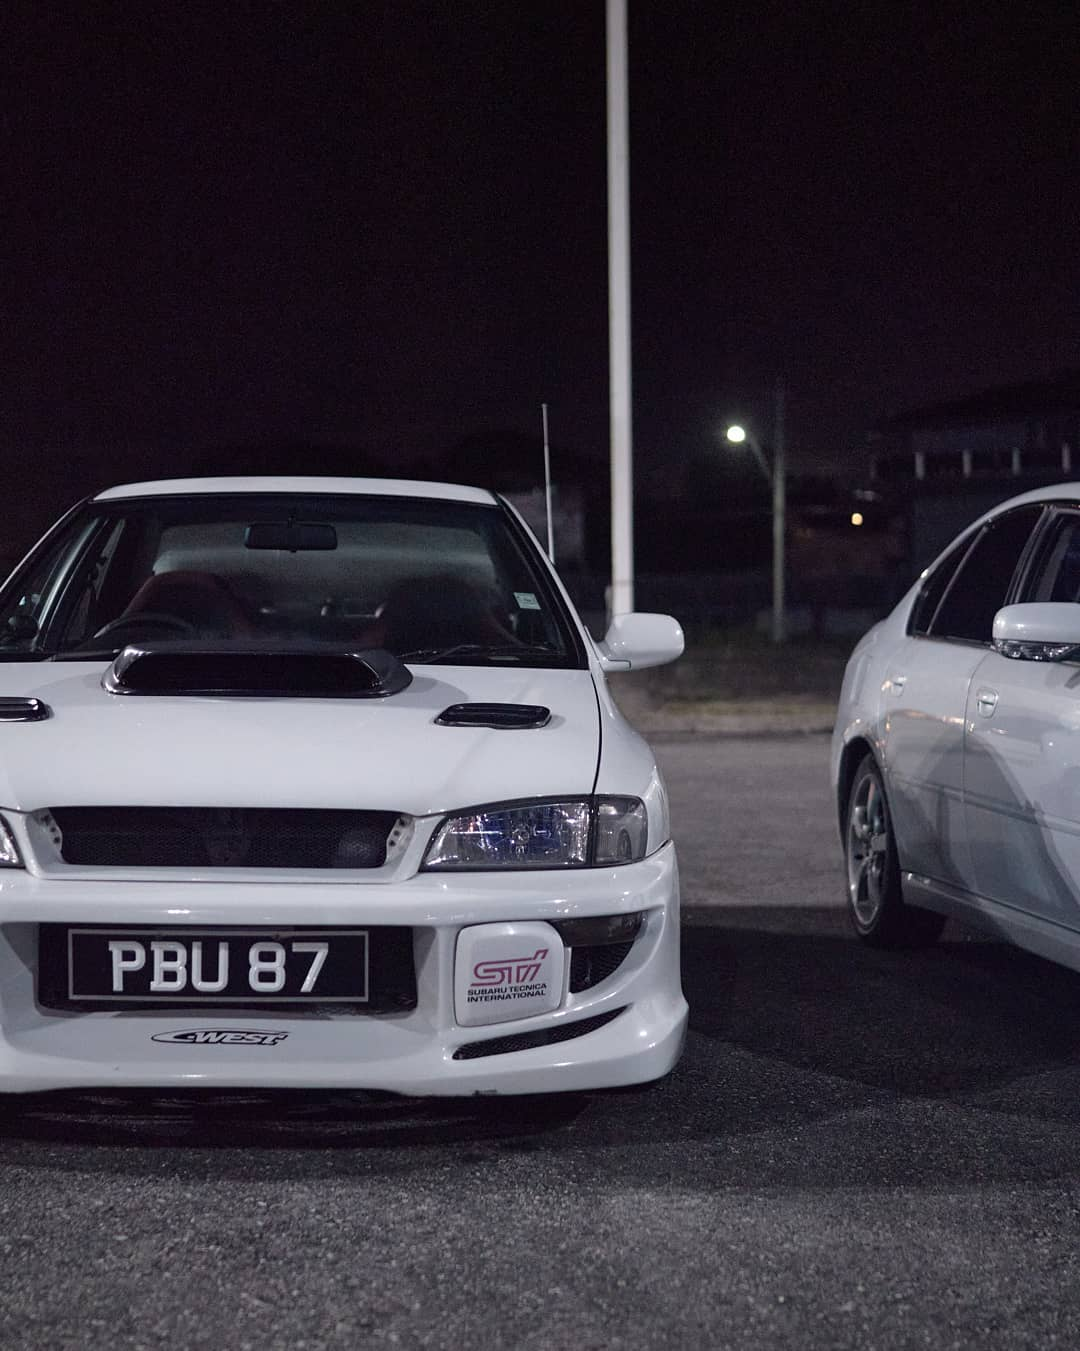License-Plate: (69, 933, 366, 999)
